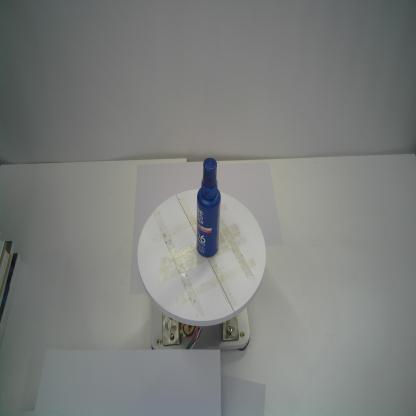Personal Hygiene: (196, 156, 222, 258)
